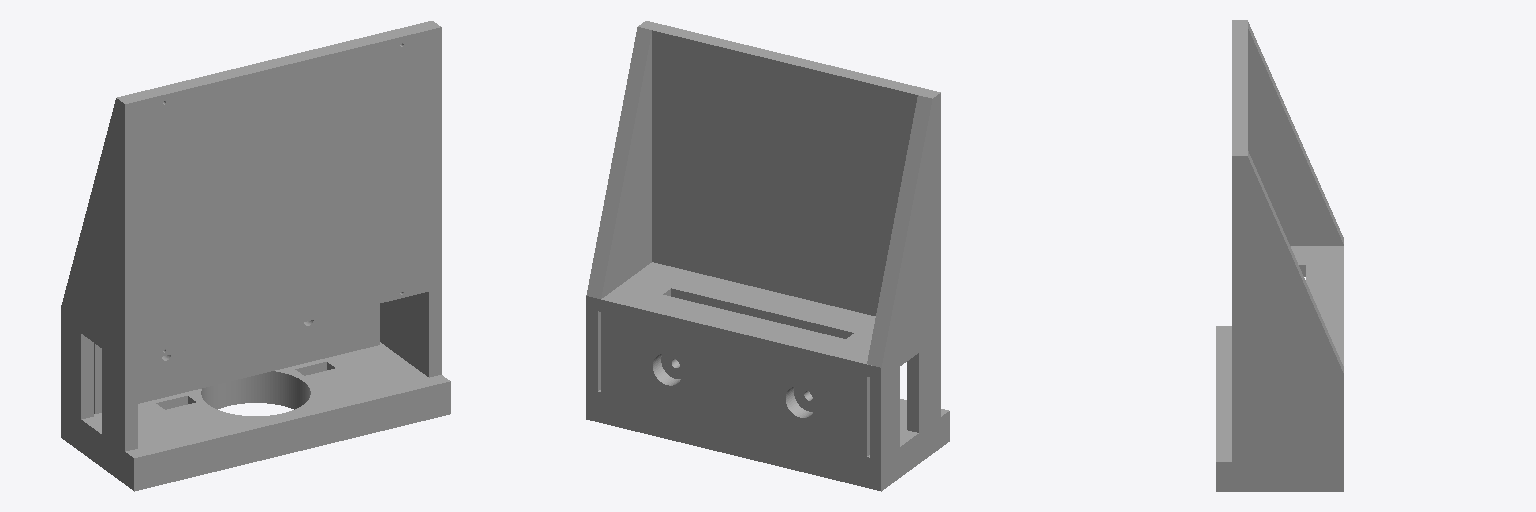
URDF robot description (realsense_obj):
<?xml version="1.0"?>
<robot name="realsense_obj">
  <!-- world 直下に body_link を置く -->
  <link name="body_link">
    <visual>
      <geometry>
        <mesh filename="package://xarm_apriltag_demo/meshes/realsense-rviz.stl" scale="1 1 1"/>
      </geometry>
      <origin xyz="0 0 0" rpy="0 0 0"/>
      <material name="gray">
        <color rgba="0.7 0.7 0.7 1"/>
      </material>
    </visual>
  </link>
</robot>

--- What the picture shows (computed from the rendered views, not written in the file) ---
3 views of the same robot in one strip: view 1: azimuth 30°, elevation 25°; view 2: azimuth 150°, elevation 25°; view 3: azimuth 270°, elevation 25° (orthographic).
Robot: realsense_obj — 1 links, 0 joints (none); root link body_link; default pose: all joints at 0.
Links seen in each view (by area): view 1: body_link; view 2: body_link; view 3: body_link.
Boxes of the visible links, x1,y1,x2,y2 form: body_link: (61,21,450,491); body_link: (586,21,949,491); body_link: (1216,20,1343,491).
Size in the robot's own frame: 0.1 by 0.0401 by 0.115 metres.
1 mesh visuals loaded from 1 distinct referenced files (1 binary STL).
